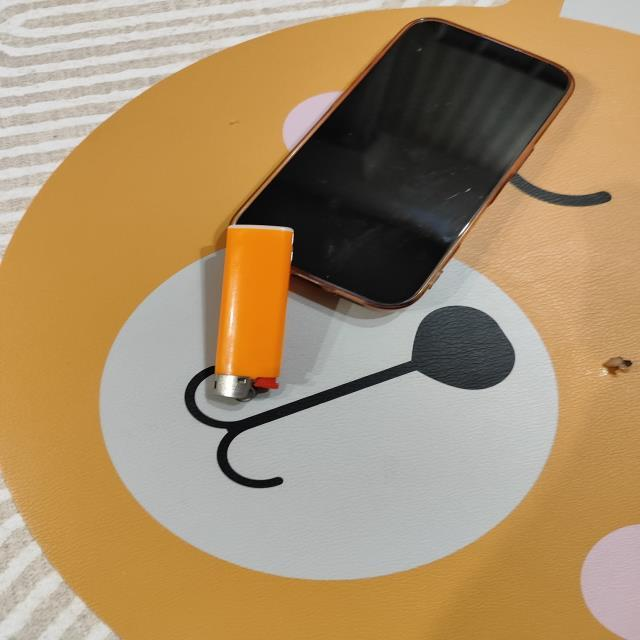lighter: (214, 225, 293, 399)
